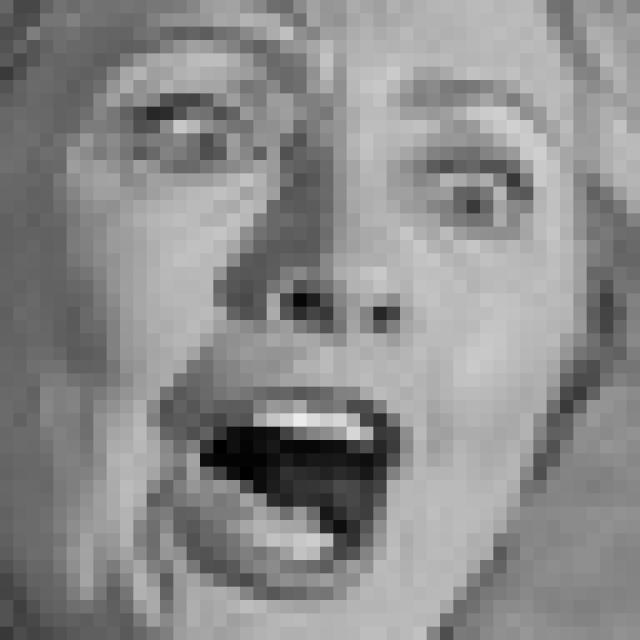angry: (71, 16, 574, 640)
